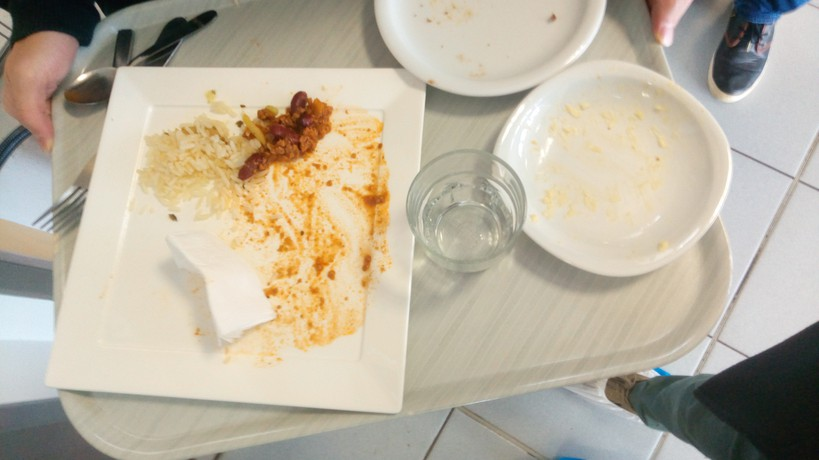cup: (397, 143, 541, 276)
cutlery: (54, 2, 223, 116), (18, 152, 98, 244)
orga: (159, 94, 341, 186)
trash: (165, 228, 282, 347)
